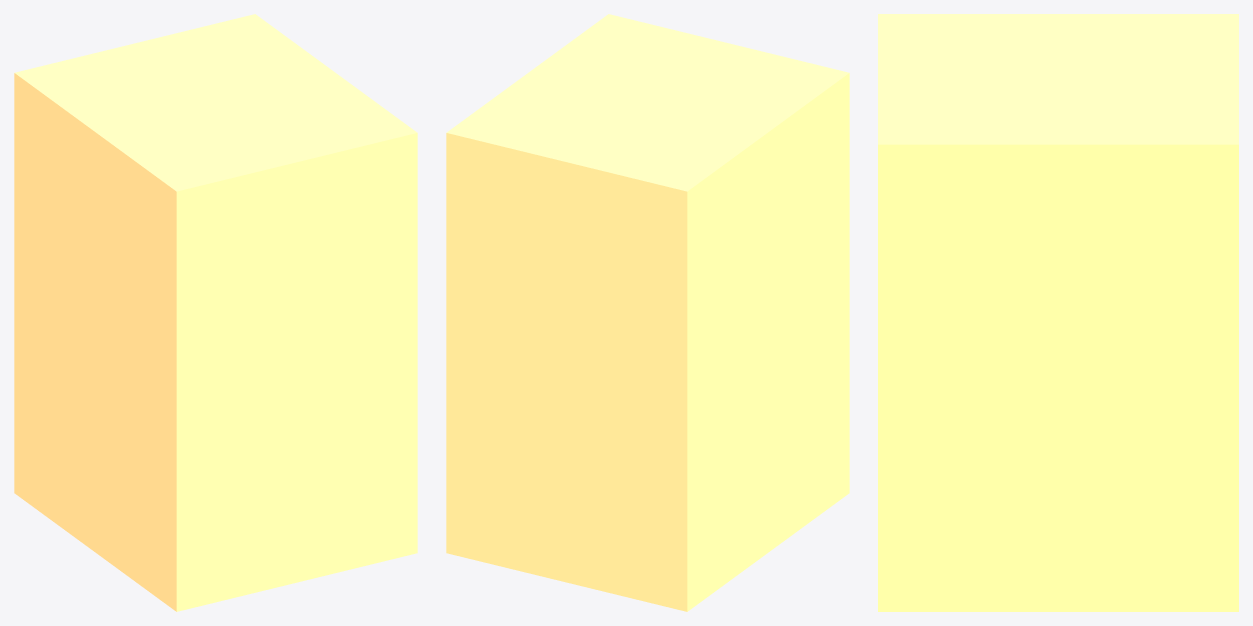
Rendered from Lantern parchment__n6.glb.
3 renders of one model, left to right at view 1: azimuth 30°, elevation 25°; view 2: azimuth 150°, elevation 25°; view 3: azimuth 270°, elevation 25°, orthographic. The views are drawn at different scales.
Parts seen in each view (by area): view 1: Lantern parchment; view 2: Lantern parchment; view 3: Lantern parchment.
Boxes of the visible parts, box(x1,y1,x2,y2) form: Lantern parchment: box(14, 14, 417, 611); Lantern parchment: box(446, 14, 849, 611); Lantern parchment: box(878, 14, 1238, 611).
Bounding box in the file's own units: 0.24 × 0.4 × 0.28.
